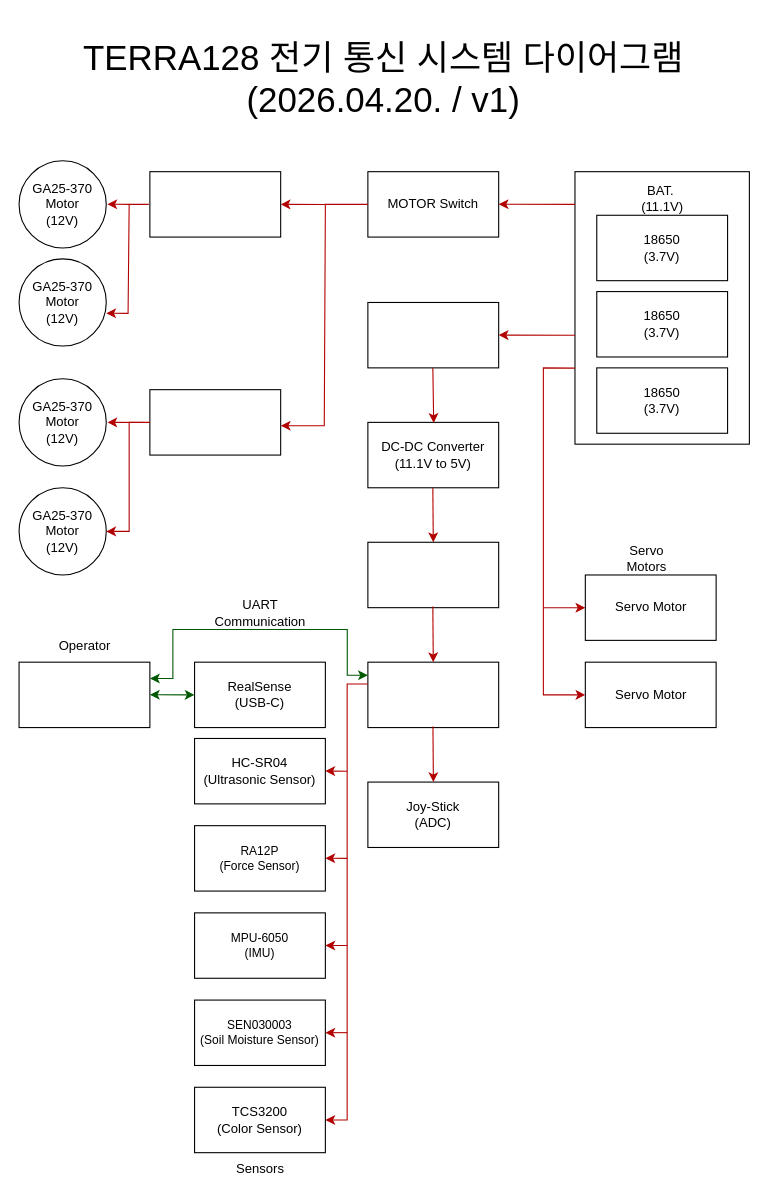
Some shapes in this 768 by 1203 pixel diagram are drawn without their labels. Here are the shapes that lost their labels. From the top down, the box of each, then its label:
(149, 171, 281, 237): Motor Driver - 1
(367, 301, 499, 368): SYSTEM Switch
(149, 389, 281, 455): Motor Driver - 2
(367, 541, 499, 608): Fuse (5V, 1A)
(18, 661, 150, 728): Laptop
(367, 661, 499, 728): Atmega128 MEGA
